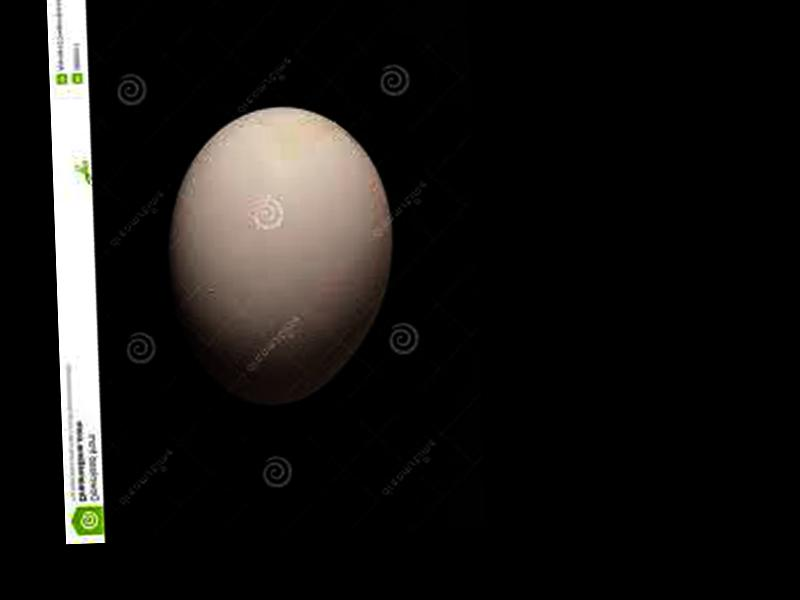Eggs: (163, 100, 398, 409)
